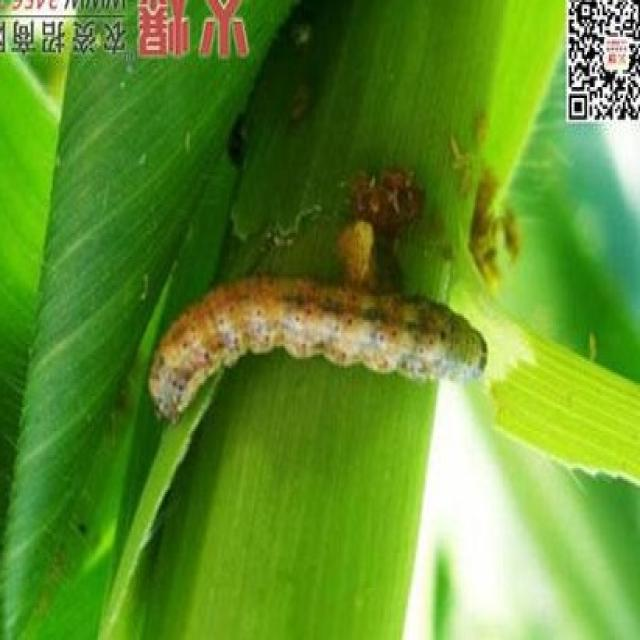army worm: (137, 279, 495, 420)
